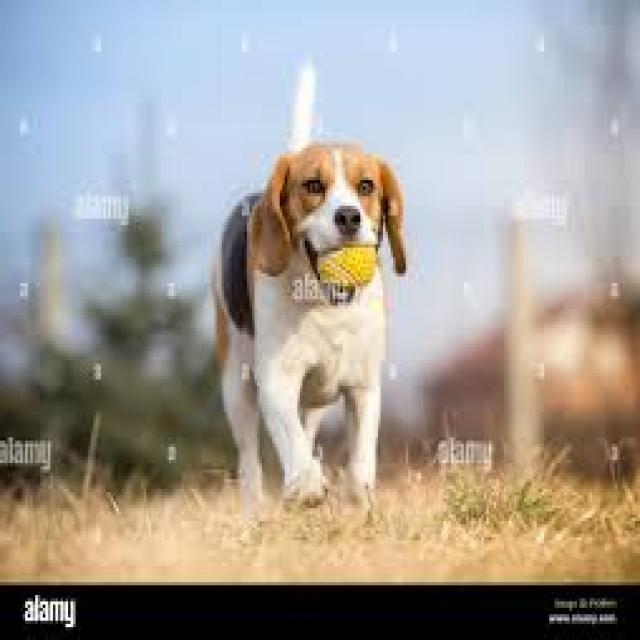Dog: (209, 58, 416, 520)
